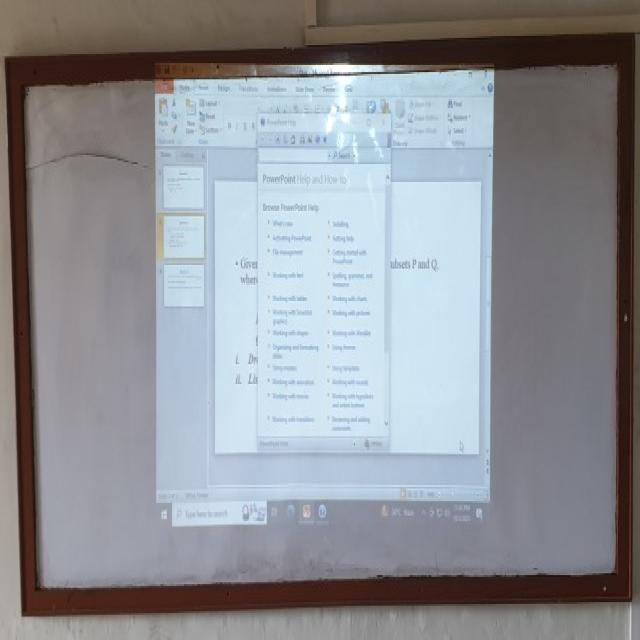Slide: (154, 61, 496, 537)
White-board: (13, 55, 629, 604)
